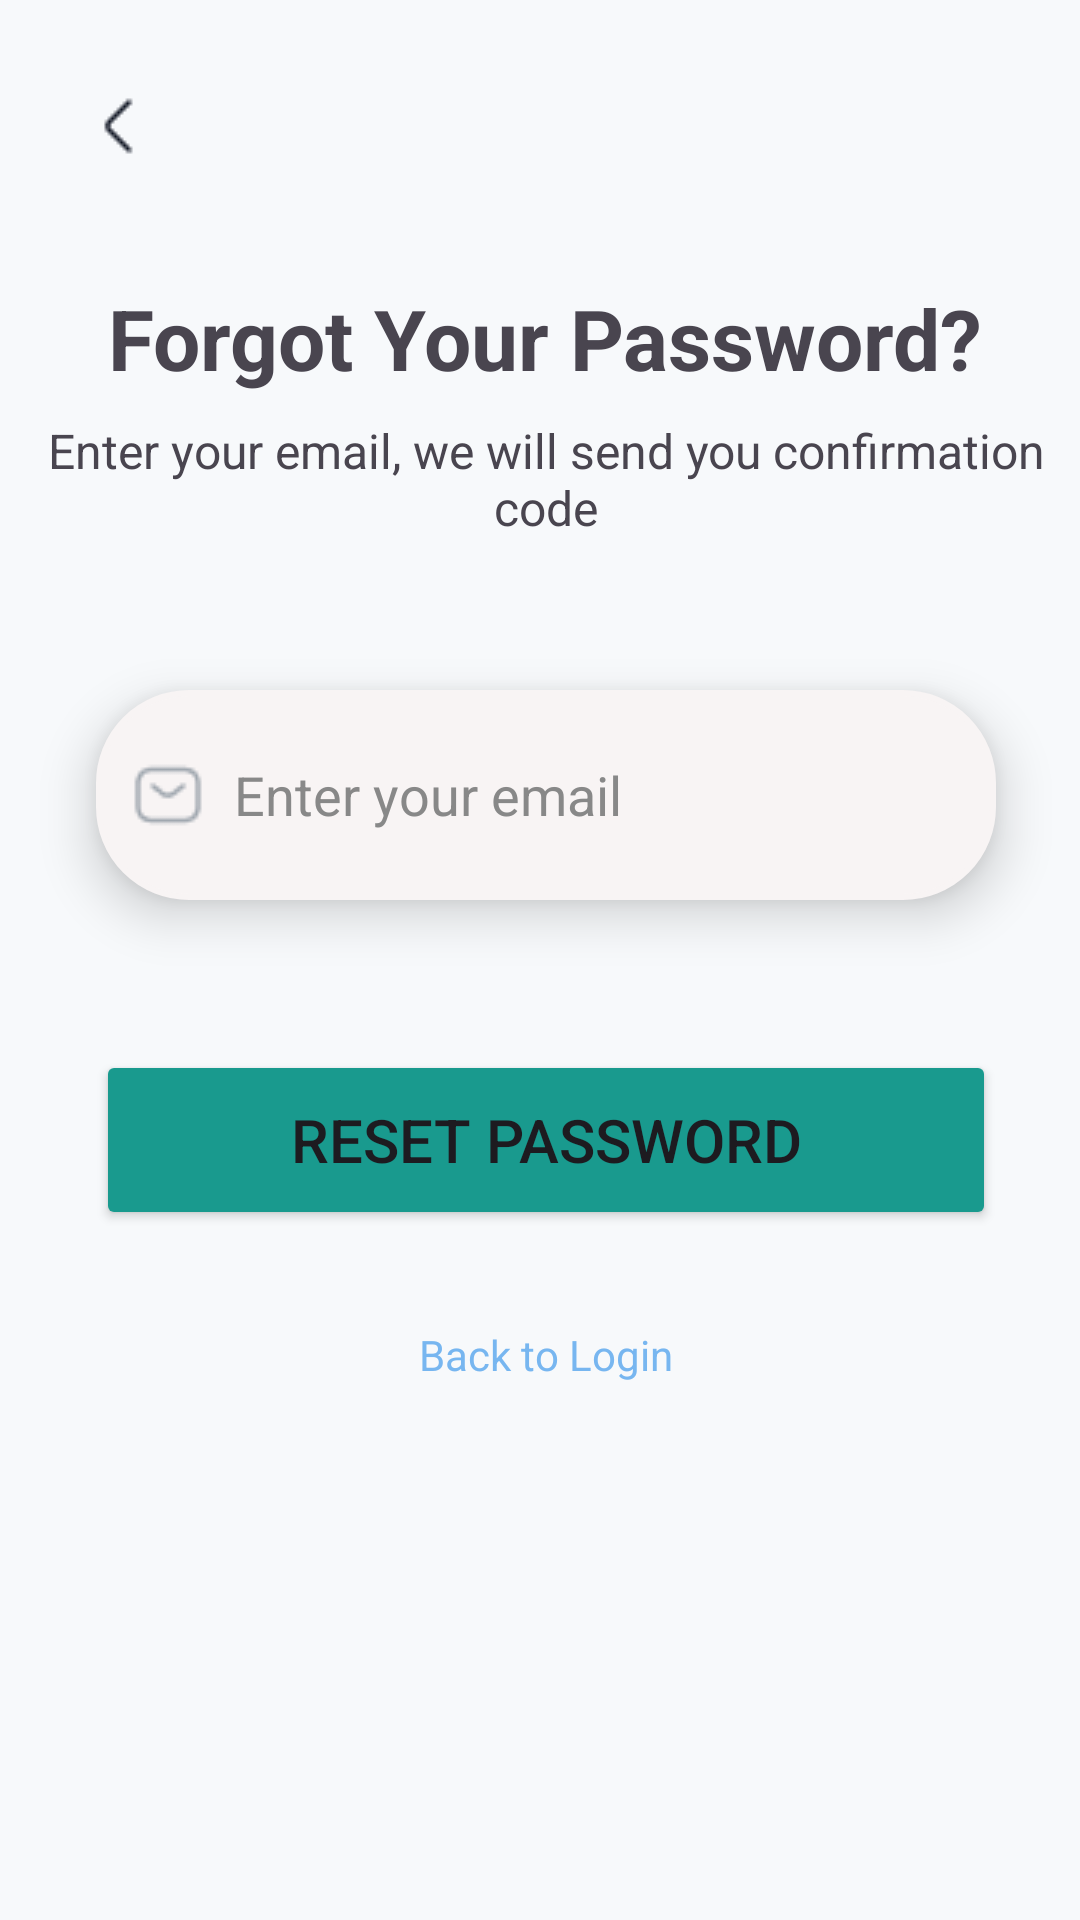

Icon bounding boxes for this 1080 × 1920 phone screenshot, format (x1, y1, x2, y2):
backbtn: (104, 98, 133, 154)
